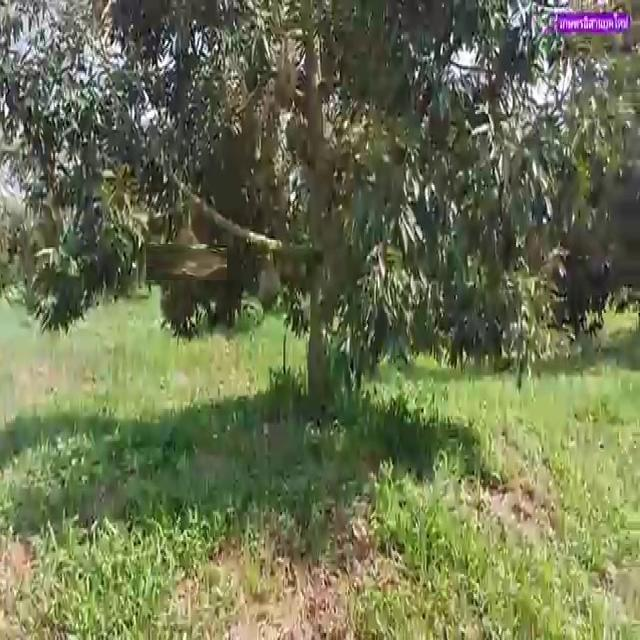durian: (157, 233, 215, 291)
